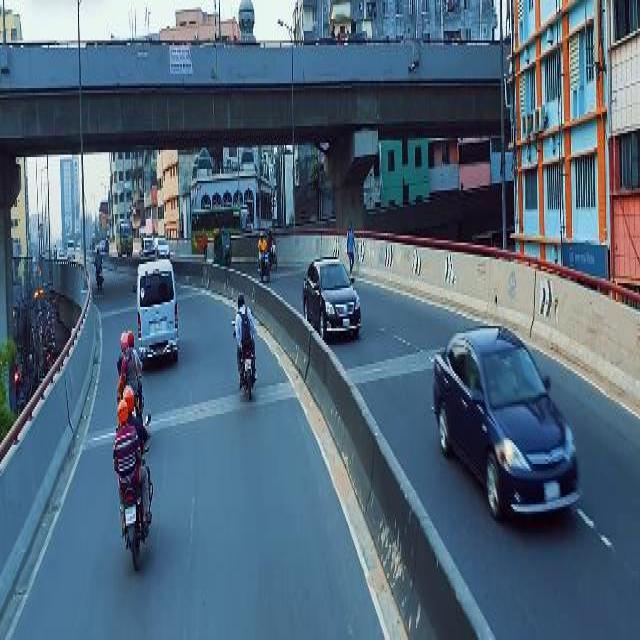bus: (112, 214, 134, 259)
car: (301, 252, 364, 345)
motorbike: (112, 378, 154, 571), (229, 292, 261, 406), (90, 240, 104, 290), (252, 243, 272, 278)
three wheelers -CNG-: (210, 224, 232, 264)
van: (130, 257, 180, 369)
